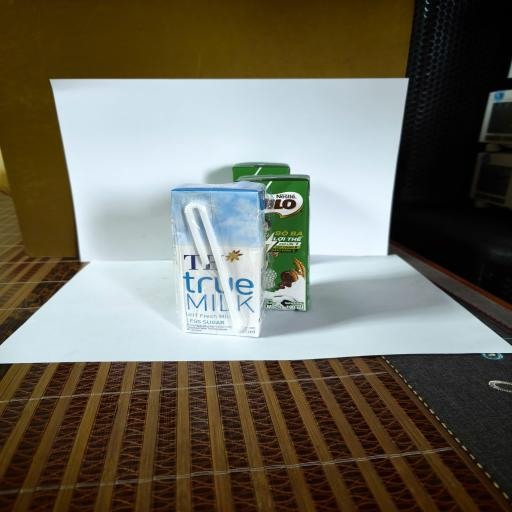milo: (236, 174, 310, 312), (232, 162, 291, 183)
